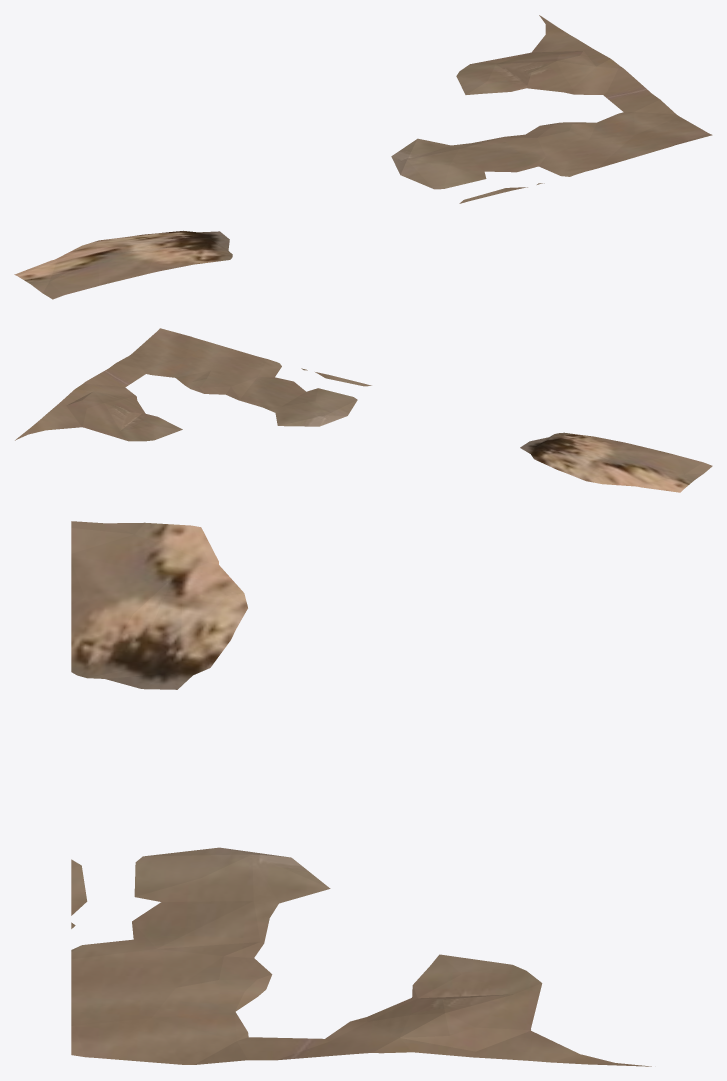
3 views of the same model, one above another, from view 1: azimuth 30°, elevation 25°; view 2: azimuth 150°, elevation 25°; view 3: azimuth 270°, elevation 25° (orthographic). The views are drawn at different scales.
Size of the model in its own units: 1.04 by 0.0155 by 0.4781.
Materials: 1 (1 with a texture image).
